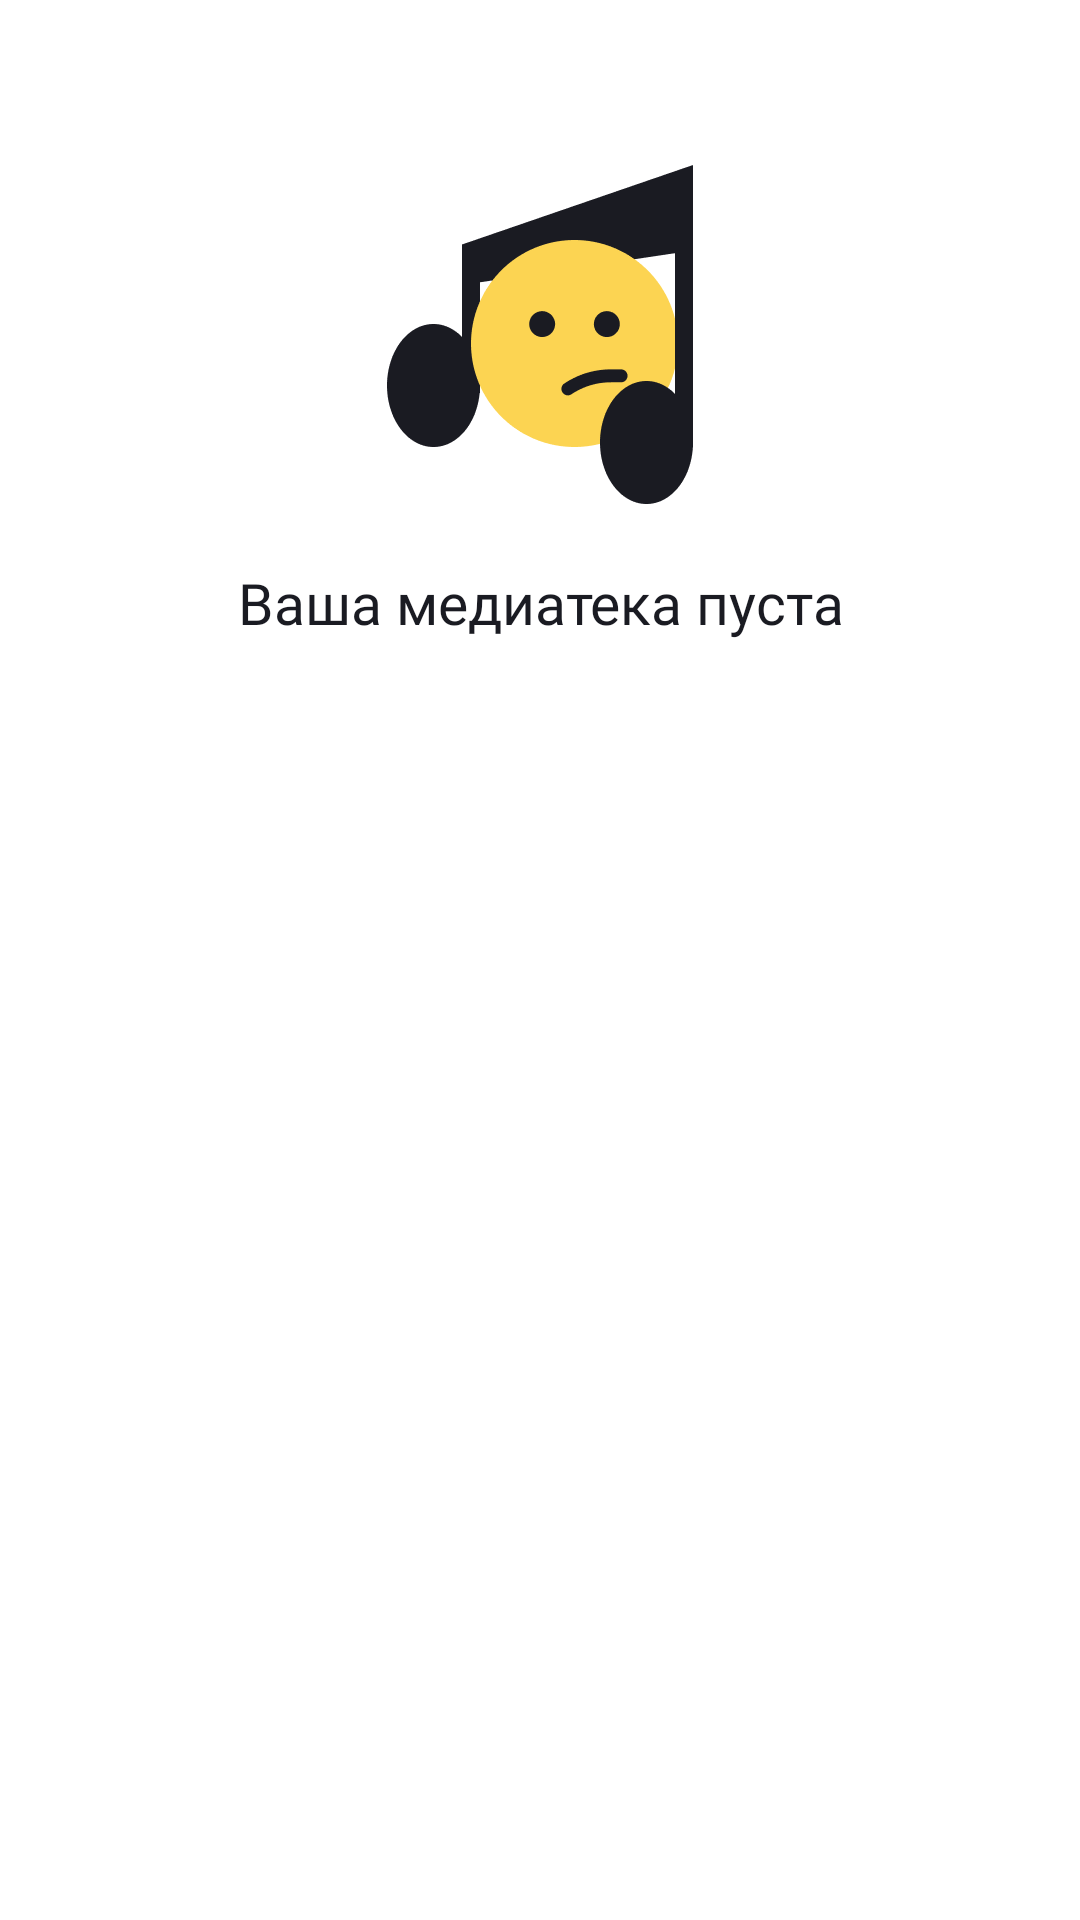

Named icons in this screenshot (1080*1920) and their bounding boxes, bbox(x1, y1, x2, y2):
il nothing found: bbox(387, 165, 693, 504)
